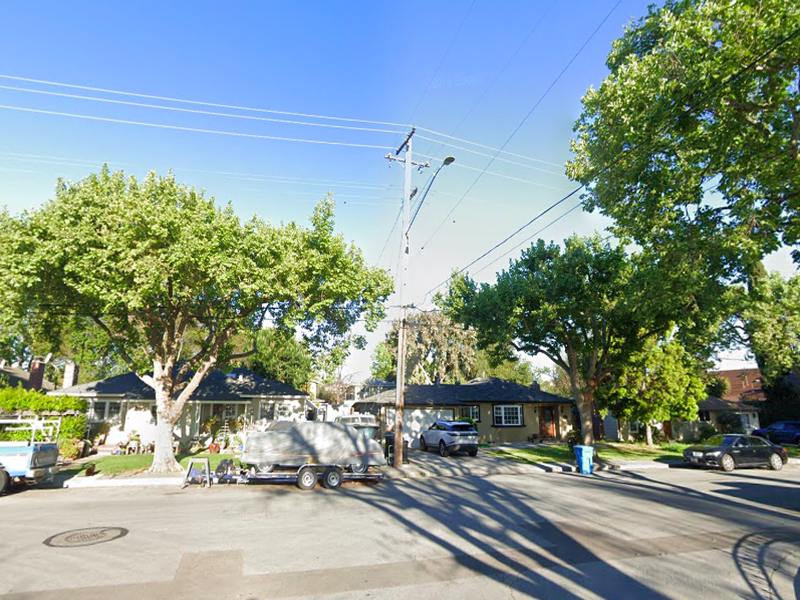tree: (1, 163, 398, 473), (429, 229, 731, 447)
utility_pole: (379, 120, 435, 180)
